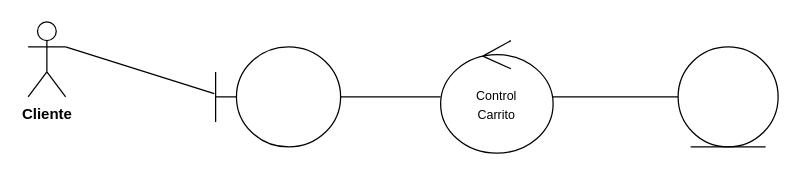
The diagram is 800 pixels wide and 175 high, and some of its shapes have lost their labels. The box of each missing label's shape, as (x1, y1, x2, y2) in pixels:
Carrito: (677, 46, 778, 147)
pantalla carrito: (214, 46, 341, 147)
